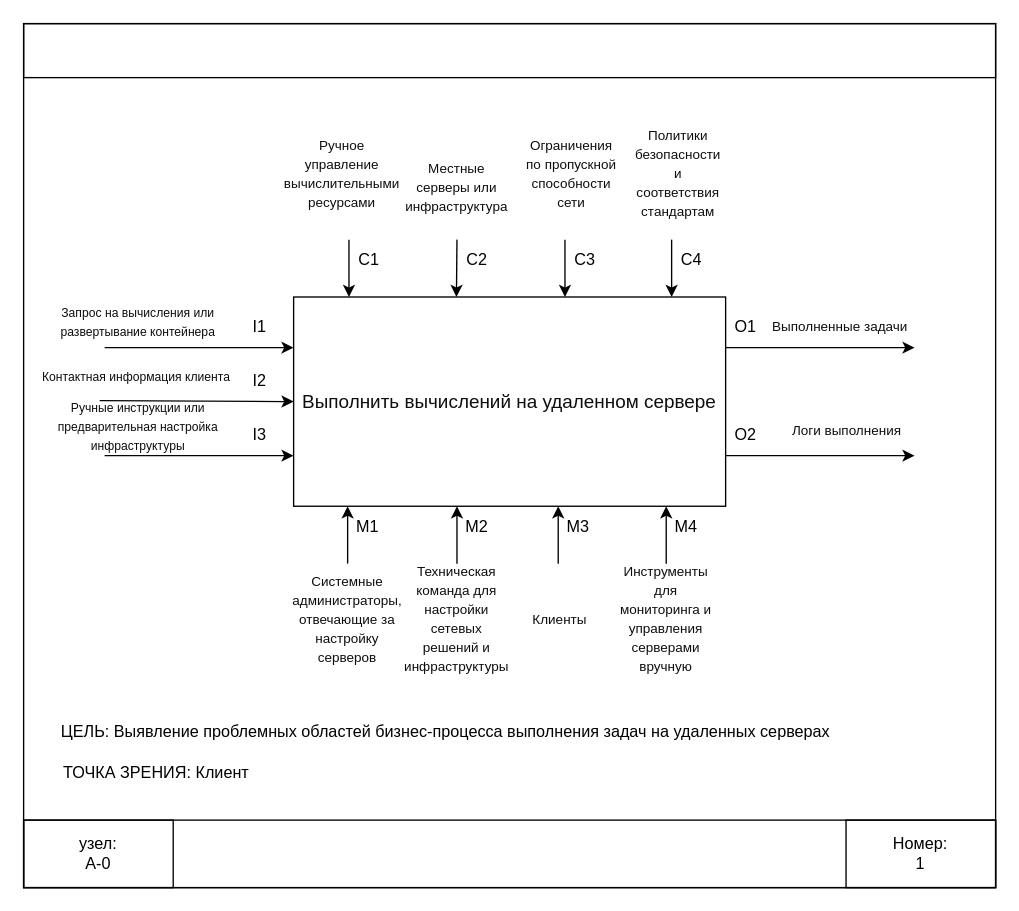
The diagram is 1019 pixels wide and 911 high, and some of its shapes have lost their labels. Here are the shapes that lost their labels. From the top down, the box of each, then its label:
(22, 22, 996, 78): IDEF0 (AS-IS)
(22, 819, 996, 888): Заголовок: Выполнение вычислений на удаленном сервере
